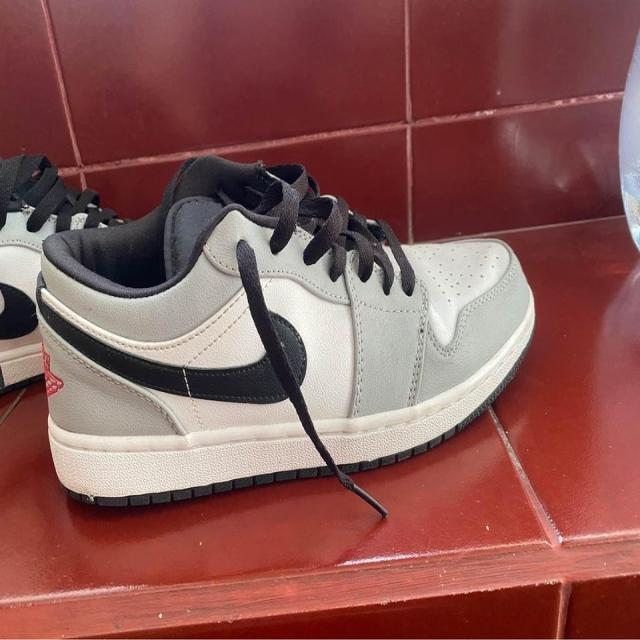nike fake jordan 1: (40, 151, 538, 507)
